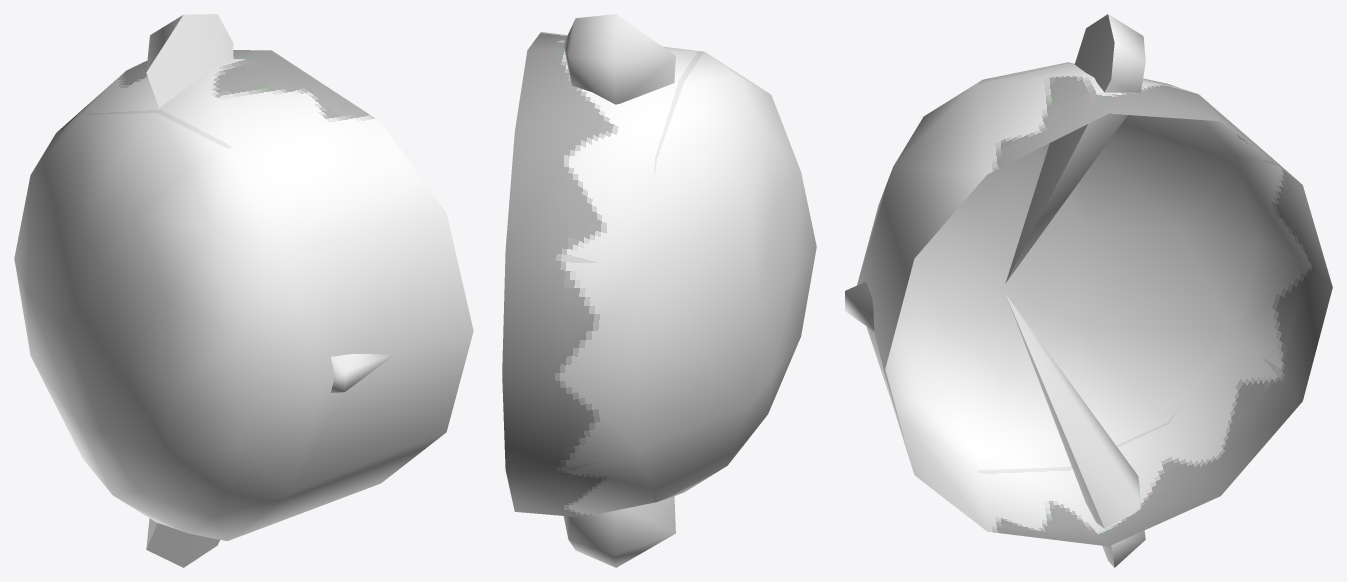
The model's file is boy07b.dae.
3 views of the same model, side by side, from view 1: azimuth 30°, elevation 25°; view 2: azimuth 150°, elevation 25°; view 3: azimuth 270°, elevation 25° (orthographic).
Parts seen in each view (by area): view 1: boy07b; view 2: boy07b; view 3: boy07b.
Boxes of the visible parts, x1=… form: boy07b: x1=14, y1=14, x2=473, y2=567; boy07b: x1=502, y1=14, x2=816, y2=567; boy07b: x1=845, y1=14, x2=1332, y2=567.
Bounding box in the file's own units: 15.5 × 26.71 × 21.59.
Materials: 3 (1 with a texture image).
